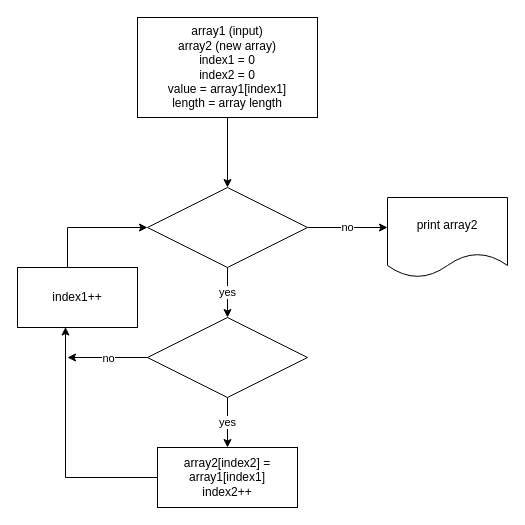
This 525x525 diagram has some shape labels left out. The shapes that lost their labels are listed below. From the top down, each one's centre as x and y in pixels, then its label:
point 227,227: index1 < length
point 227,357: valueLength < 4
